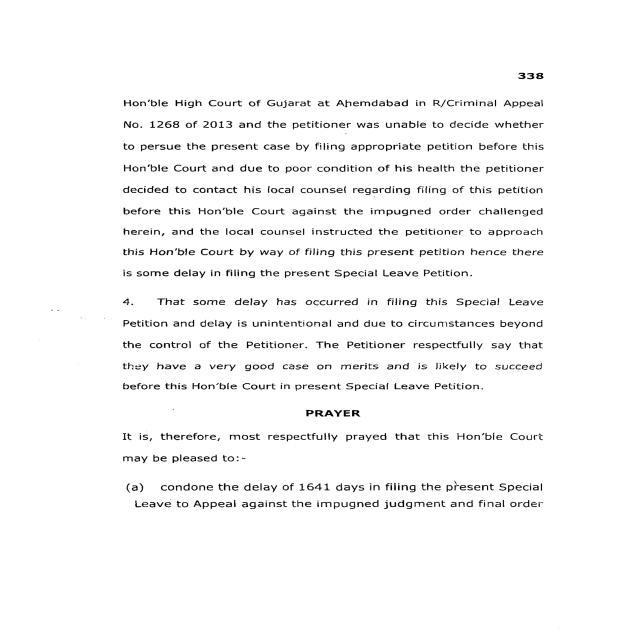page-number: (424, 1, 640, 88)
